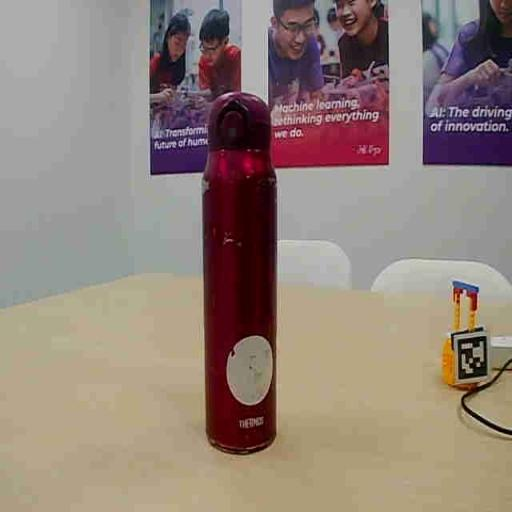bottle: (203, 93, 276, 453)
